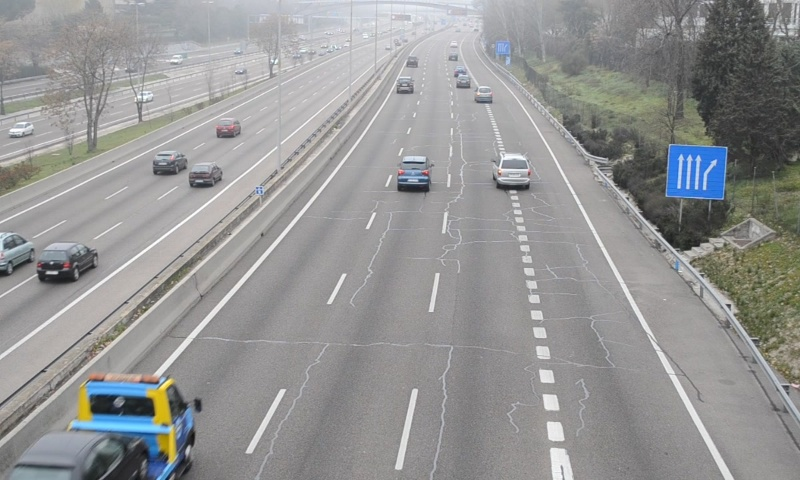car: (493, 151, 529, 187), (396, 156, 430, 190), (395, 76, 414, 95), (474, 85, 493, 103)
small-truck: (7, 371, 196, 480)
